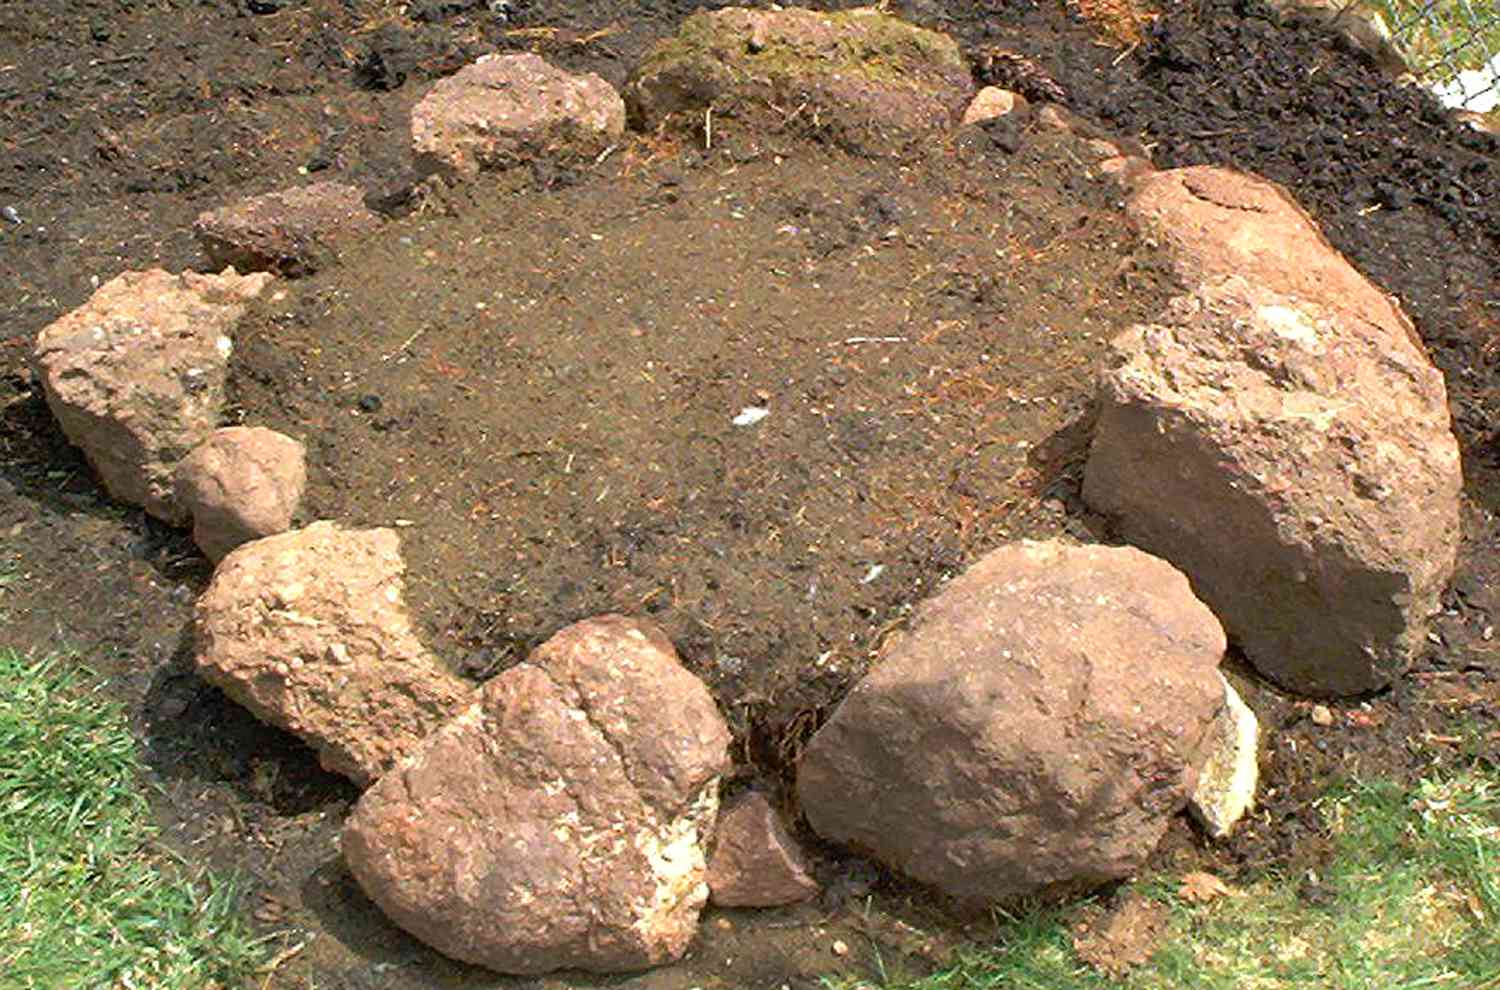dirt: (224, 124, 1134, 745), (7, 9, 620, 387), (1008, 1, 1499, 433)
grass: (954, 786, 1499, 987), (3, 672, 253, 981)
rock: (1080, 171, 1462, 710), (804, 544, 1255, 910), (332, 617, 735, 971), (36, 262, 310, 567), (197, 510, 471, 775), (630, 6, 996, 158), (406, 49, 630, 198), (196, 183, 378, 295)
